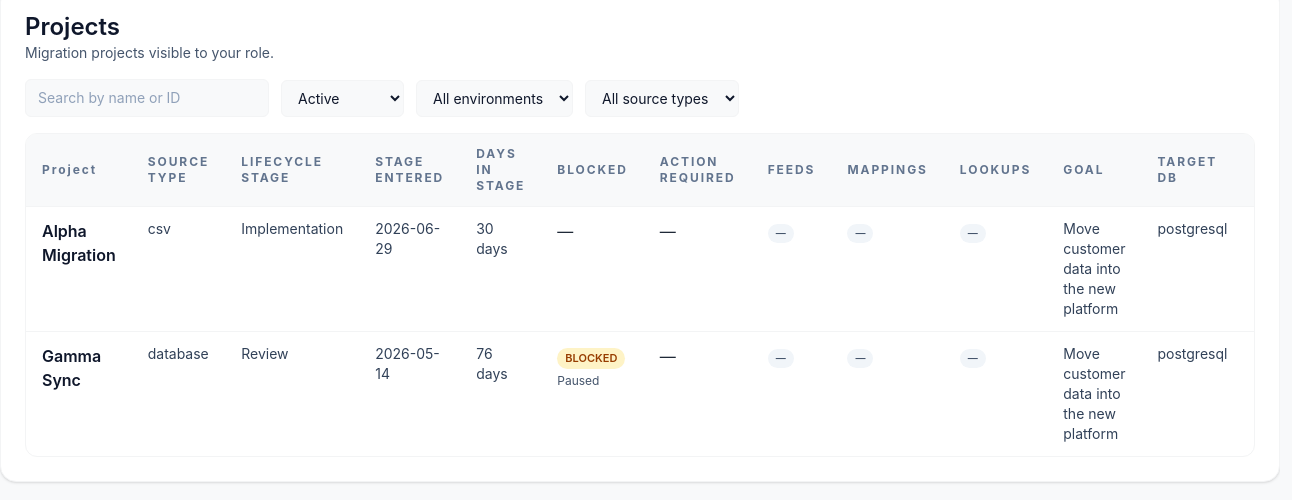
it: PortfolioTable › filters by source type
Select "database" in the dropdown named "Filter by source type" at (662, 98), box [585,80,739,116]
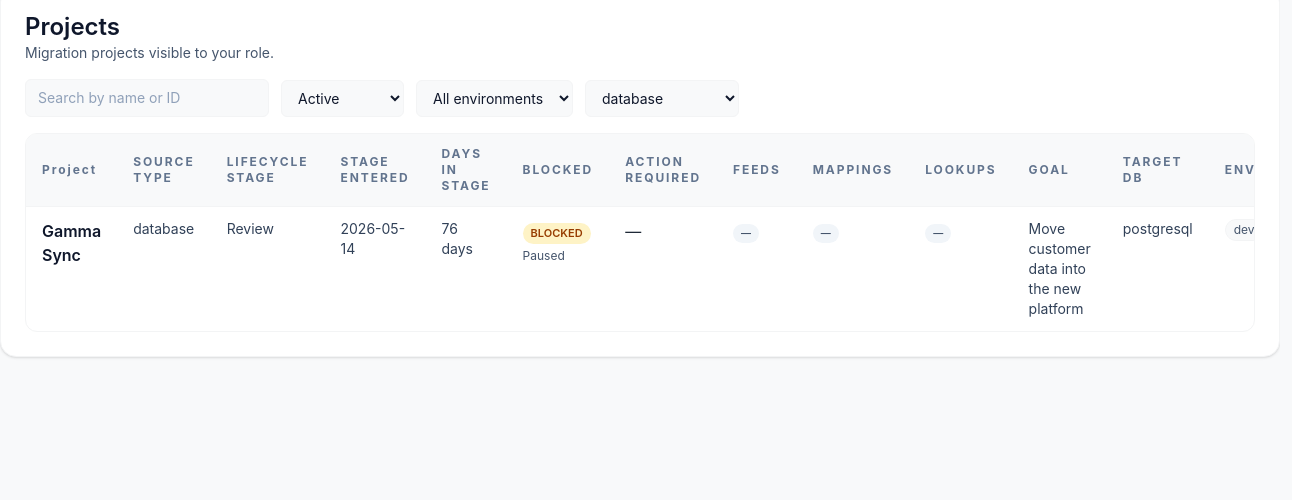
Check: the link "Gamma Sync" is shown, box [42,221,101,265]
Check: the link "Alpha Migration" is gone
